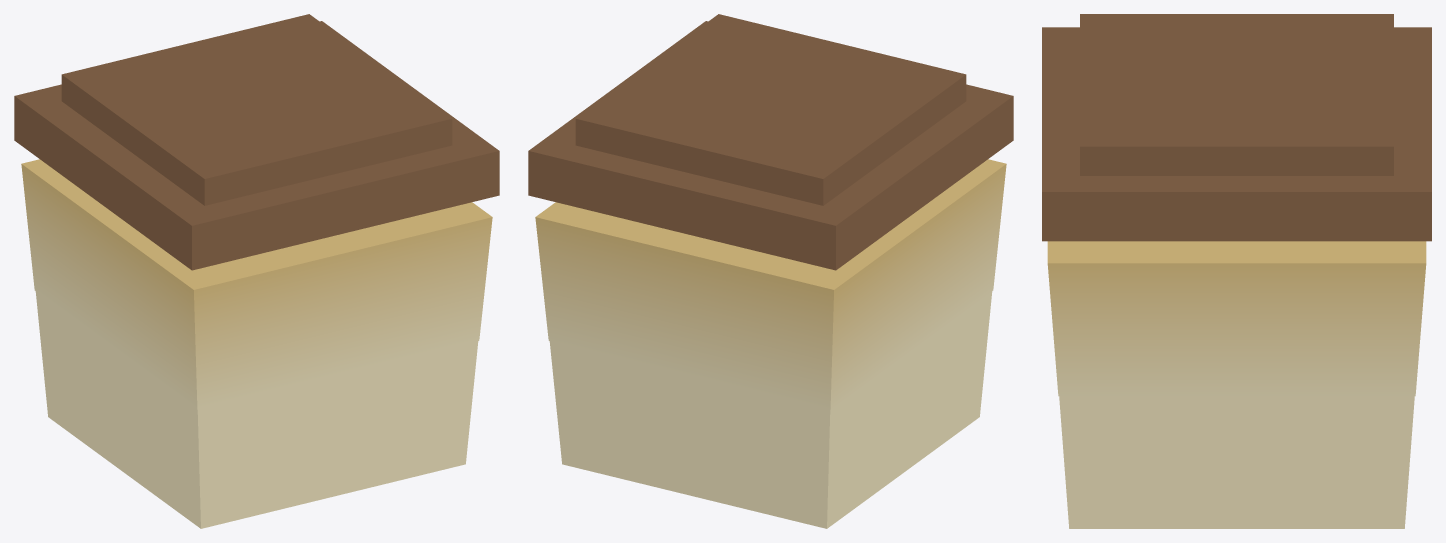
File: beehive_0.glb
3 views of the same model, side by side, from view 1: azimuth 30°, elevation 25°; view 2: azimuth 150°, elevation 25°; view 3: azimuth 270°, elevation 25° (orthographic). The views are drawn at different scales.
Visible parts, largest first — view 1: beehive_0; view 2: beehive_0; view 3: beehive_0.
Boxes of the visible parts, x1,y1,x2,y2 form: beehive_0: (14,14,499,528); beehive_0: (528,14,1013,528); beehive_0: (1042,14,1431,528).
Size of the model in its own units: 0.72 by 0.77 by 0.72.
